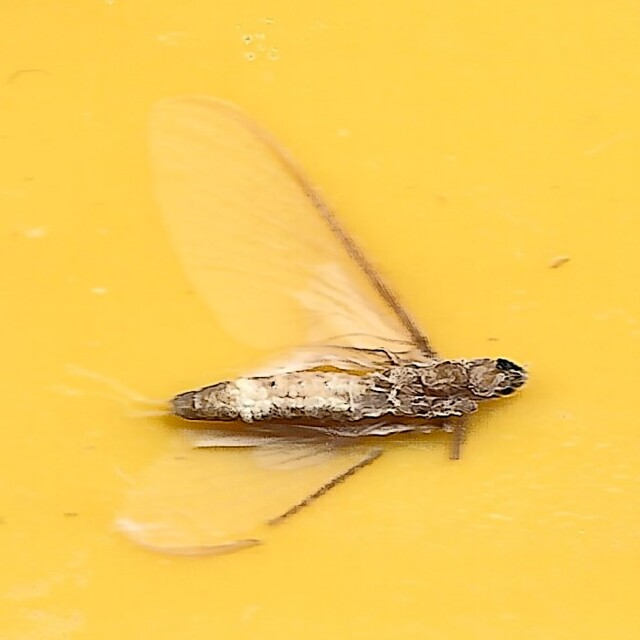Ephemeroptera: (109, 88, 531, 552)
